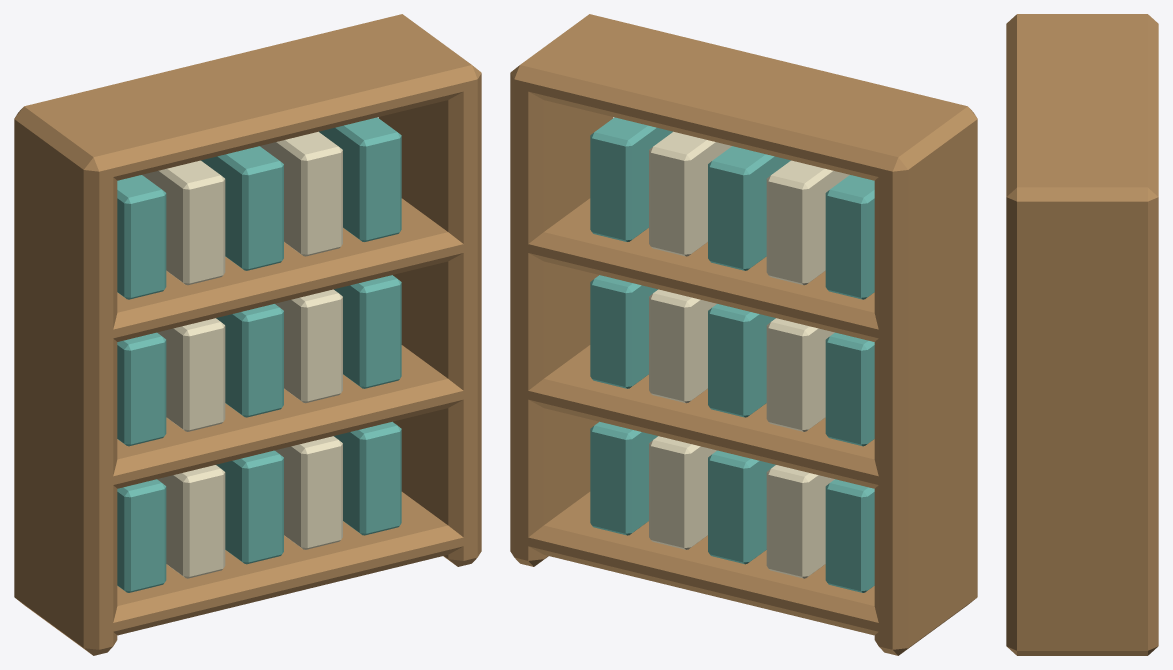
The model's file is CC_Bookshelf.fbx.
The picture shows the model from 3 angles, left to right: view 1: azimuth 30°, elevation 25°; view 2: azimuth 150°, elevation 25°; view 3: azimuth 270°, elevation 25°; orthographic projection. The views are drawn at different scales.
Parts seen in each view (by area): view 1: Side.002, Shelf.005, Side.003, Shelf.002, Shelf.003, Shelf.004, Bound volume.011, Bound volume.013, Bound volume.014, Bound volume.012, Bound volume.001, Bound volume.006 (+9 smaller); view 2: Side.002, Shelf.005, Side.003, Shelf.002, Shelf.004, Shelf.003, Bound volume.011, Bound volume.013, Bound volume.014, Bound volume.012, Bound volume.001, Bound volume.006 (+9 smaller); view 3: Side.003, Shelf.005, Side.002.
Part boxes in pixels (x1=…): Side.002: x1=14, y1=103, x2=117, y2=655; Shelf.005: x1=38, y1=17, x2=474, y2=180; Side.003: x1=378, y1=14, x2=481, y2=566; Shelf.002: x1=102, y1=492, x2=474, y2=635; Shelf.003: x1=102, y1=345, x2=474, y2=488; Shelf.004: x1=102, y1=198, x2=474, y2=341; Bound volume.011: x1=142, y1=160, x2=225, y2=285; Bound volume.013: x1=260, y1=131, x2=342, y2=256; Bound volume.014: x1=319, y1=117, x2=401, y2=241; Bound volume.012: x1=201, y1=146, x2=283, y2=270; Bound volume.001: x1=157, y1=465, x2=225, y2=578; Bound volume.006: x1=157, y1=318, x2=225, y2=431; Side.002: x1=874, y1=103, x2=977, y2=655; Shelf.005: x1=517, y1=17, x2=953, y2=180; Side.003: x1=510, y1=14, x2=613, y2=566; Shelf.002: x1=517, y1=492, x2=889, y2=635; Shelf.004: x1=517, y1=198, x2=889, y2=341; Shelf.003: x1=517, y1=345, x2=888, y2=488; Bound volume.011: x1=766, y1=160, x2=849, y2=285; Bound volume.013: x1=649, y1=131, x2=731, y2=256; Bound volume.014: x1=590, y1=117, x2=672, y2=241; Bound volume.012: x1=708, y1=146, x2=790, y2=270; Bound volume.001: x1=766, y1=465, x2=834, y2=578; Bound volume.006: x1=766, y1=318, x2=834, y2=431; Side.003: x1=1006, y1=181, x2=1158, y2=655; Shelf.005: x1=1006, y1=20, x2=1158, y2=195; Side.002: x1=1006, y1=14, x2=1158, y2=29.
Bounding box in the file's own units: 1.42 × 1.7 × 0.5.
